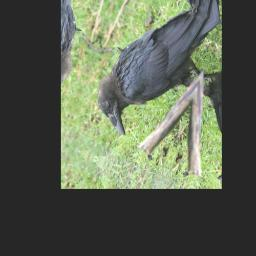Crow: (86, 0, 221, 159)
